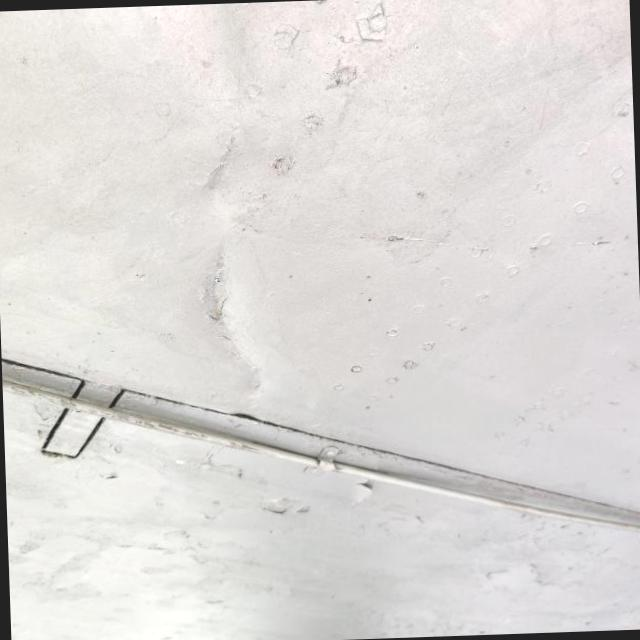dent: (195, 230, 272, 406)
